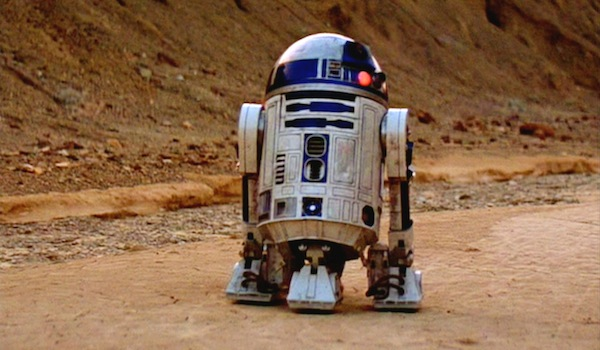r2d2: (225, 33, 423, 310)
